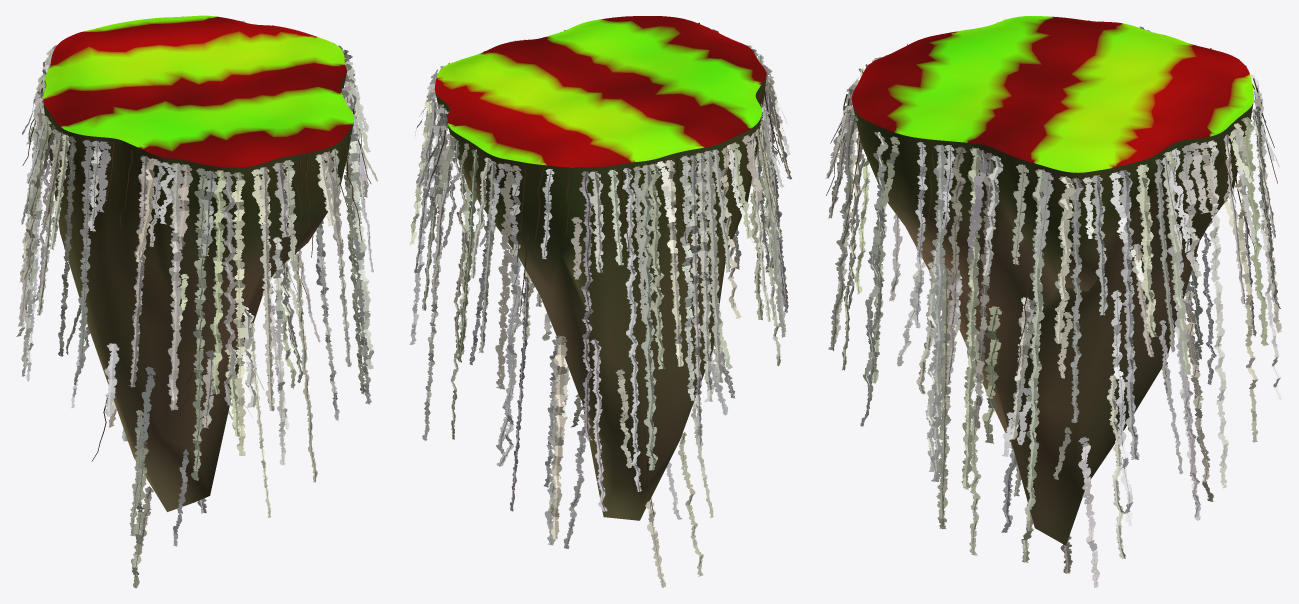
The model's file is SM_H08_Floater06.fbx.
The picture shows the model from 3 angles, left to right: view 1: azimuth 30°, elevation 25°; view 2: azimuth 150°, elevation 25°; view 3: azimuth 270°, elevation 25°; orthographic projection. The views are drawn at different scales.
Visible parts, largest first — view 1: SM_H08_Floater06, SM_H08_Floater06_Ivy; view 2: SM_H08_Floater06, SM_H08_Floater06_Ivy; view 3: SM_H08_Floater06, SM_H08_Floater06_Ivy.
Boxes of the visible parts, <box> form: SM_H08_Floater06: <box>43,15,353,511</box>; SM_H08_Floater06_Ivy: <box>16,20,377,588</box>; SM_H08_Floater06: <box>434,16,766,520</box>; SM_H08_Floater06_Ivy: <box>409,17,791,587</box>; SM_H08_Floater06: <box>852,16,1253,545</box>; SM_H08_Floater06_Ivy: <box>825,19,1282,587</box>.
Bounding box in the file's own units: 33.36 × 45.18 × 36.09.
